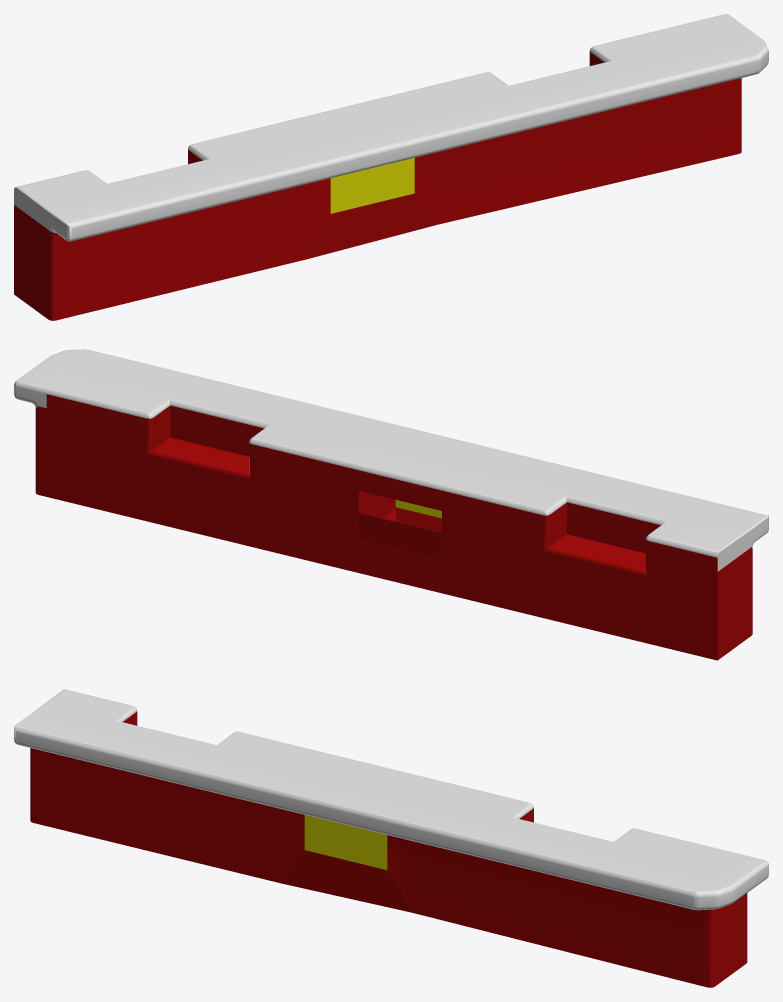
Rendered from SnackBar.fbx.
3 views of the same model, one above another, from view 1: azimuth 30°, elevation 25°; view 2: azimuth 150°, elevation 25°; view 3: azimuth 330°, elevation 25° (orthographic).
Parts seen in each view (by area): view 1: pCube6_pCube6; view 2: pCube6_pCube6; view 3: pCube6_pCube6.
Boxes of the visible parts, x1,y1,x2,y2 form: pCube6_pCube6: [14, 14, 768, 320]; pCube6_pCube6: [14, 349, 768, 660]; pCube6_pCube6: [14, 689, 768, 987].
Size of the model in its own units: 11.08 by 1.61 by 1.45.
